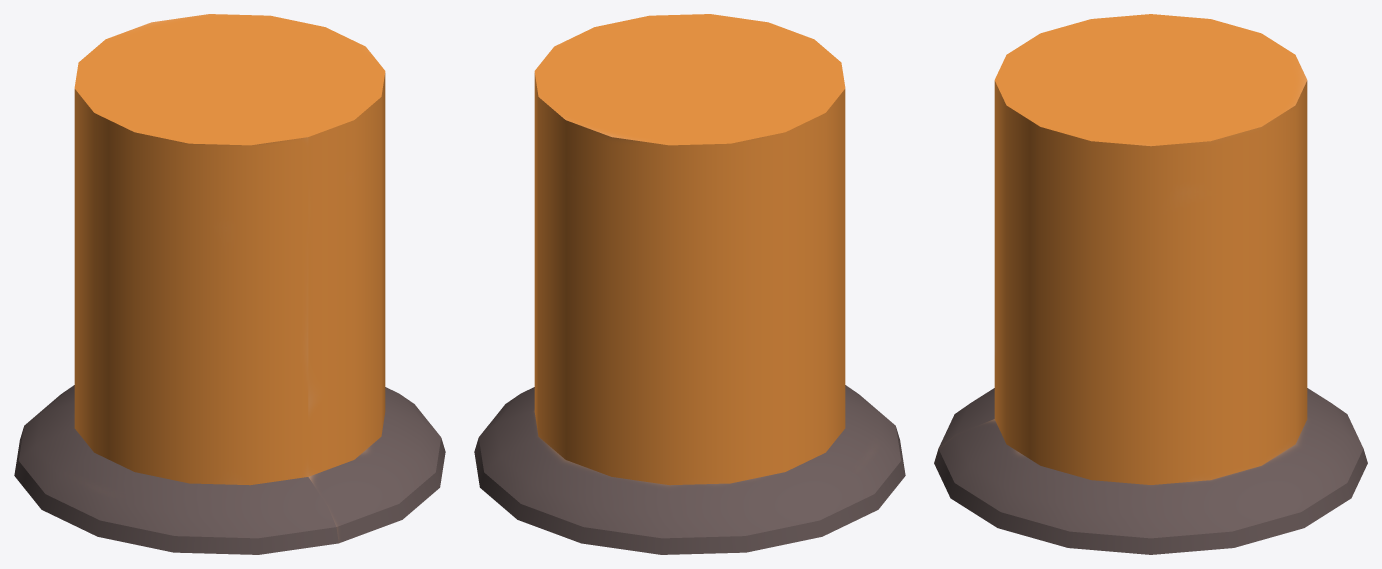
The model's file is SpawnComida.fbx.
3 views of the same model, side by side, from view 1: azimuth 30°, elevation 25°; view 2: azimuth 150°, elevation 25°; view 3: azimuth 270°, elevation 25° (orthographic).
Parts seen in each view (by area): view 1: Cosa.002; view 2: Cosa.002; view 3: Cosa.002.
Part boxes in pixels (x1,y1,x2,y2): Cosa.002: (14,14,445,554); Cosa.002: (474,14,905,554); Cosa.002: (934,14,1367,554).
Size of the model in its own units: 0.5175 by 0.5073 by 0.5175.
